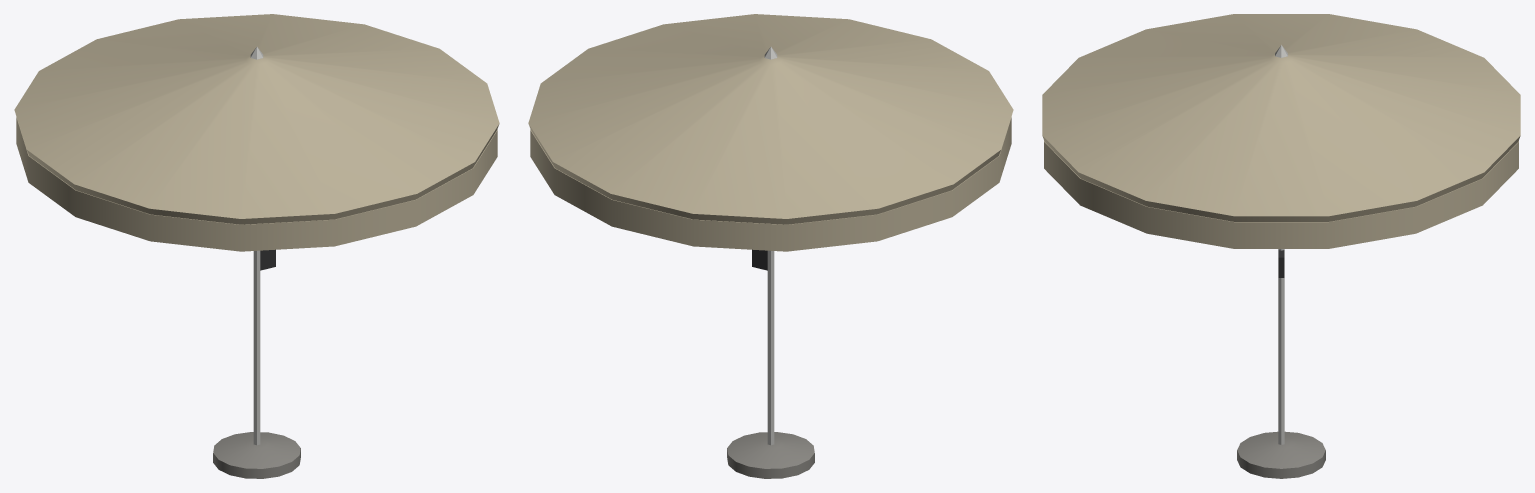
Rendered from SM_Prop_cafe_parasol_0.glb.
3 renders of one model, left to right at view 1: azimuth 30°, elevation 25°; view 2: azimuth 150°, elevation 25°; view 3: azimuth 270°, elevation 25°, orthographic.
Parts seen in each view (by area): view 1: SM_Prop_cafe_parasol_0; view 2: SM_Prop_cafe_parasol_0; view 3: SM_Prop_cafe_parasol_0.
Boxes of the visible parts, x1,y1,x2,y2 form: SM_Prop_cafe_parasol_0: [14, 14, 499, 478]; SM_Prop_cafe_parasol_0: [528, 14, 1013, 478]; SM_Prop_cafe_parasol_0: [1042, 14, 1520, 478].
Bounding box in the file's own units: 2.59 × 2.48 × 2.59.
